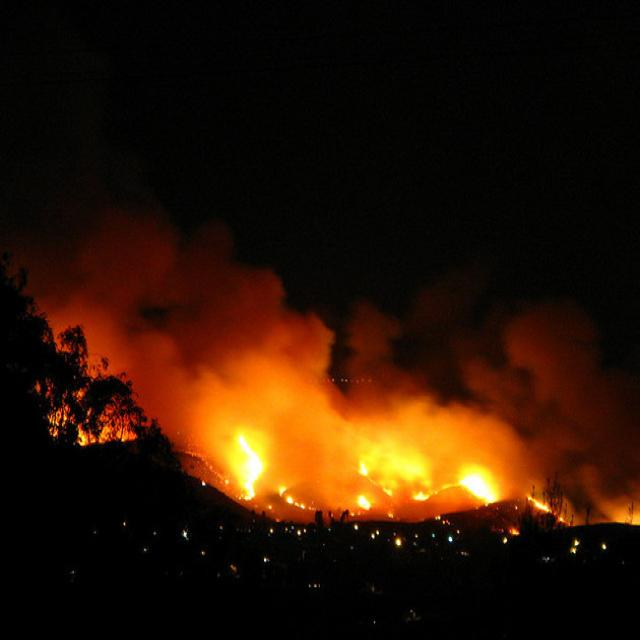Fire: (227, 426, 270, 503), (460, 466, 508, 525), (530, 492, 571, 531), (279, 482, 318, 516), (355, 459, 377, 480), (410, 487, 432, 508), (359, 495, 374, 511)
Smoke: (54, 249, 624, 491)
